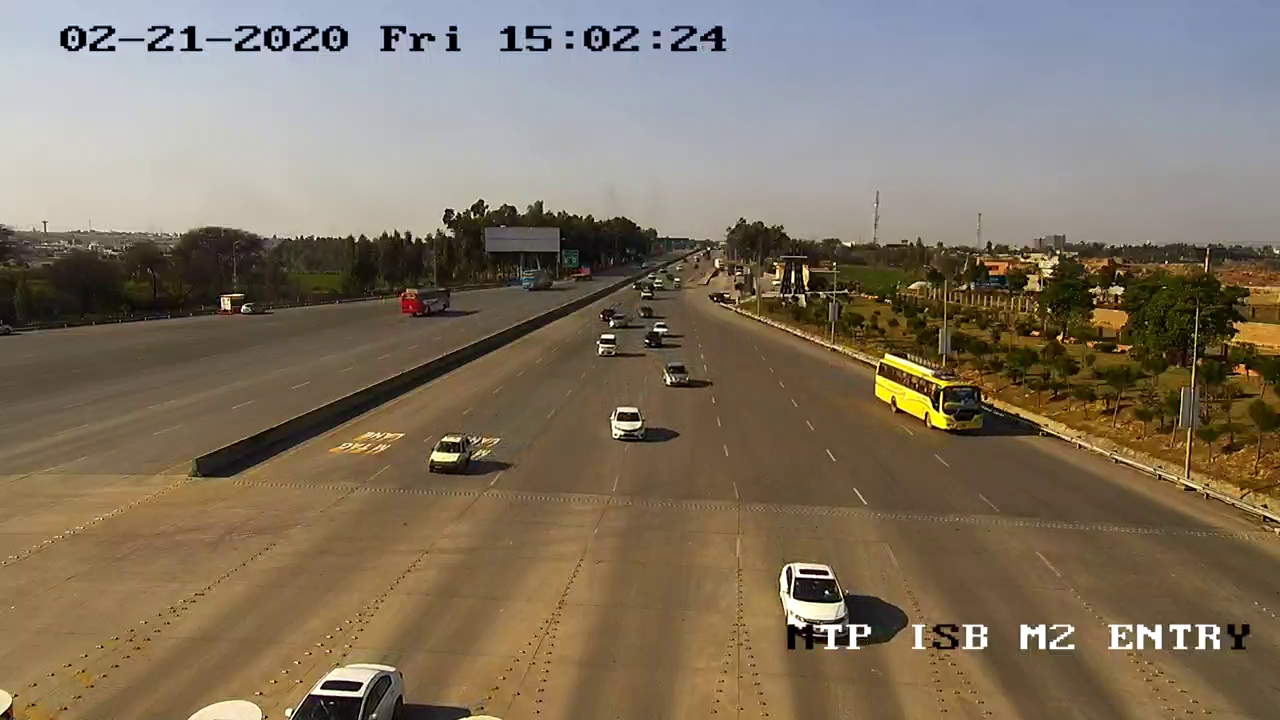f1: (417, 428, 485, 477), (597, 398, 654, 449)
f3: (859, 343, 992, 446)
f4: (857, 341, 990, 444)
